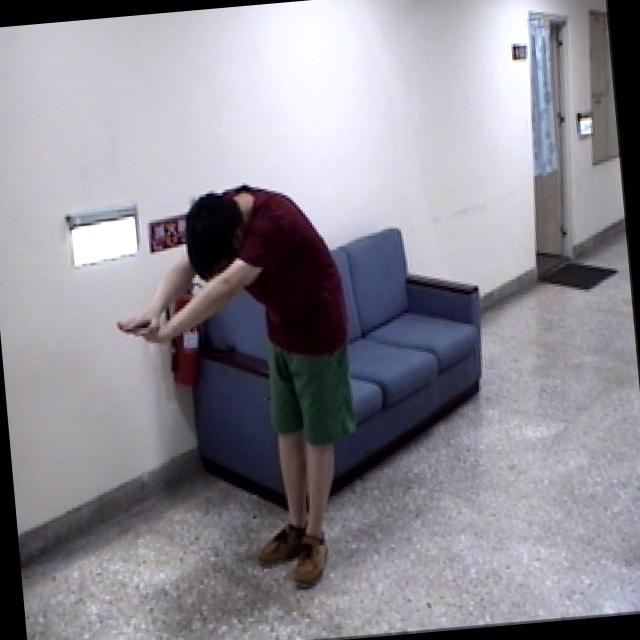bend: (101, 165, 385, 610)
